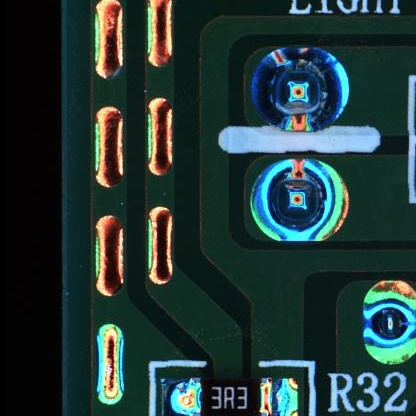spot: (249, 158, 351, 246), (250, 45, 350, 130), (362, 279, 416, 366)
